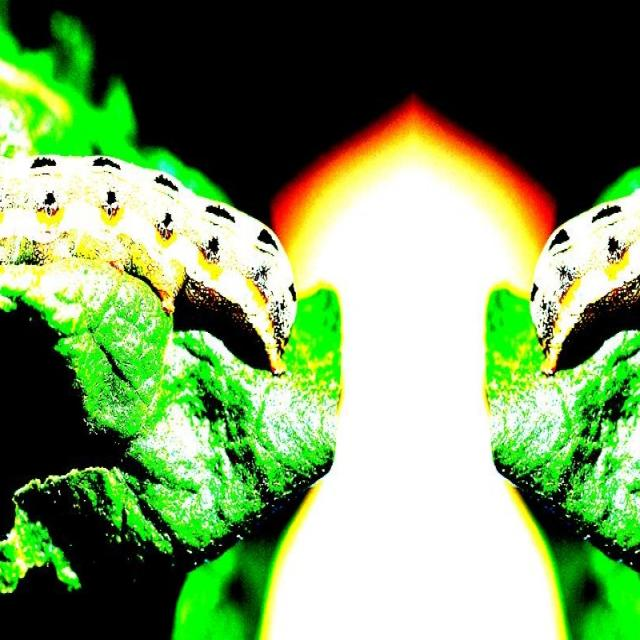Armyworm: (1, 96, 312, 375), (509, 149, 640, 406)
